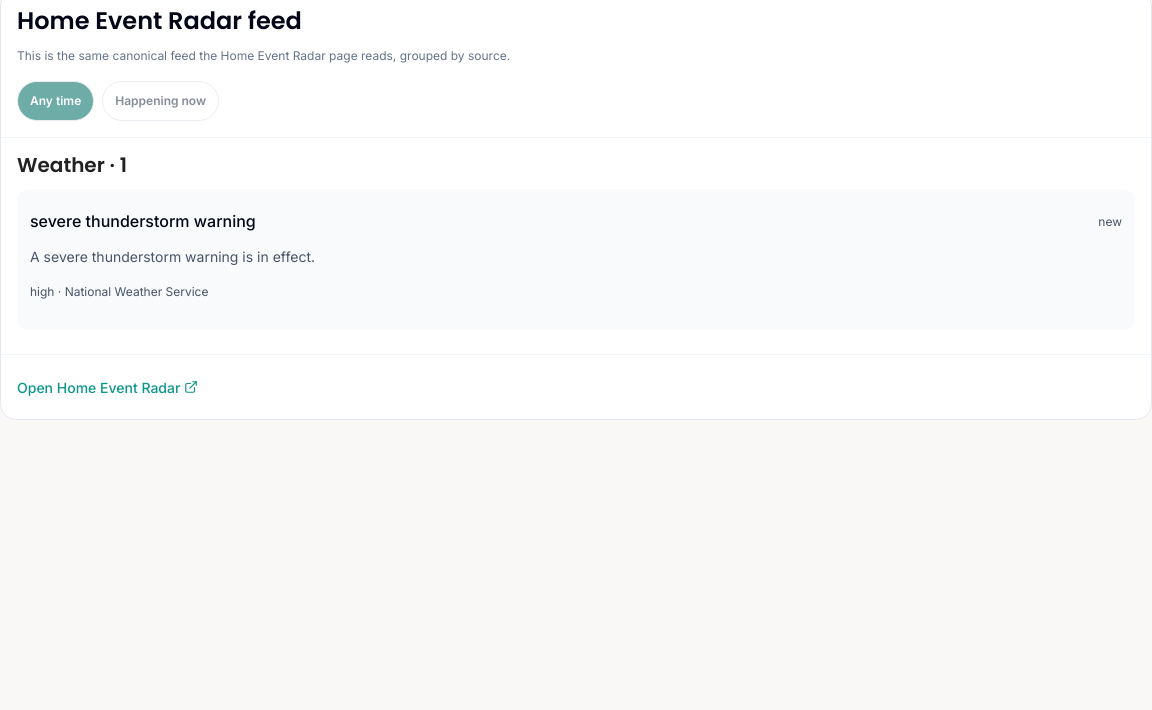
actions are disabled while another Ask turn is running
Click the button "severe thunderstorm warning". click: x=143, y=222
box: [30,202,256,242]
(page scrolled)
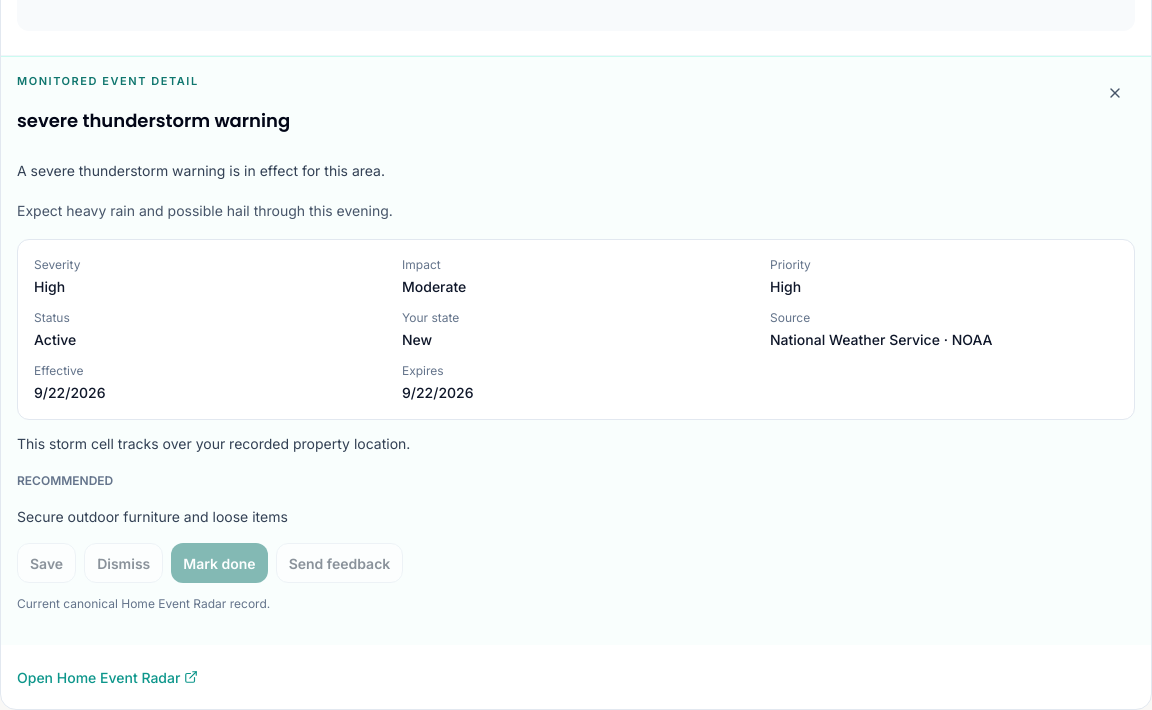
Expected: the text "Expect heavy rain and possible hail through this evening." is shown, [17,202,393,219]
Expected: the button "Save" is disabled, [17,543,76,583]
